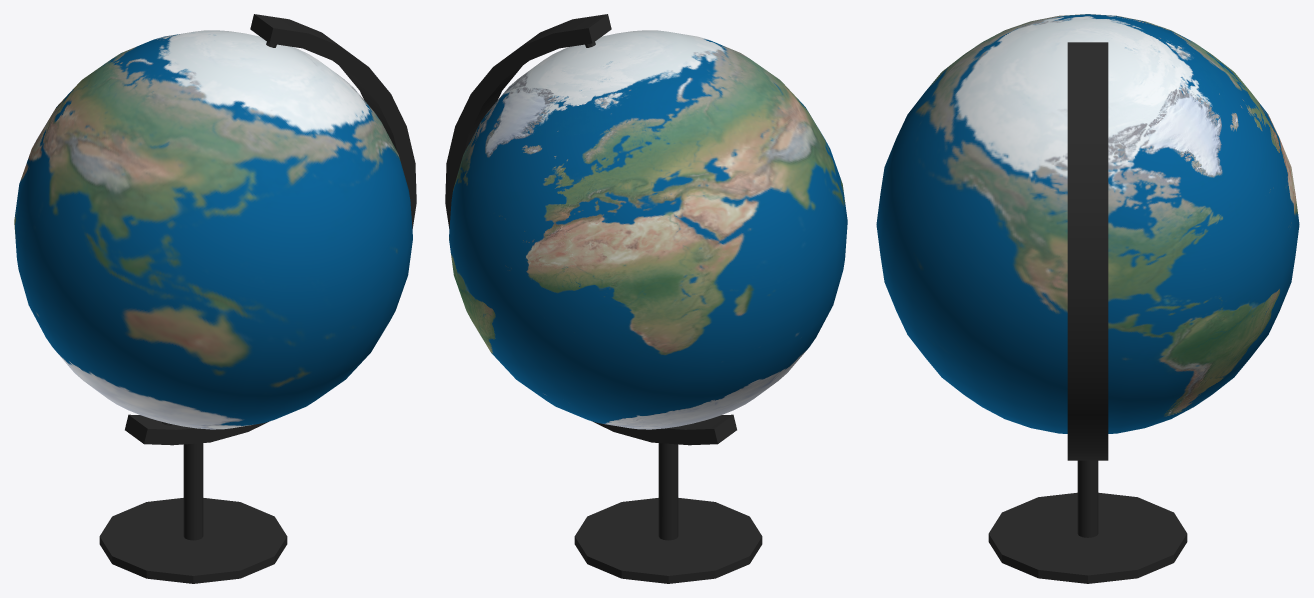
The model's file is Globe.fbx.
3 renders of one model, left to right at view 1: azimuth 30°, elevation 25°; view 2: azimuth 150°, elevation 25°; view 3: azimuth 270°, elevation 25°, orthographic. The views are drawn at different scales.
Visible parts, largest first — view 1: Sphere, Cylinder; view 2: Sphere, Cylinder; view 3: Sphere, Cylinder.
Boxes of the visible parts, x1,y1,x2,y2 form: Sphere: (14,30,412,429); Cylinder: (99,14,416,583); Sphere: (449,30,847,429); Cylinder: (445,14,762,583); Sphere: (876,14,1299,433); Cylinder: (988,42,1187,583).
Bounding box in the file's own units: 2.12 × 2.8 × 2.
